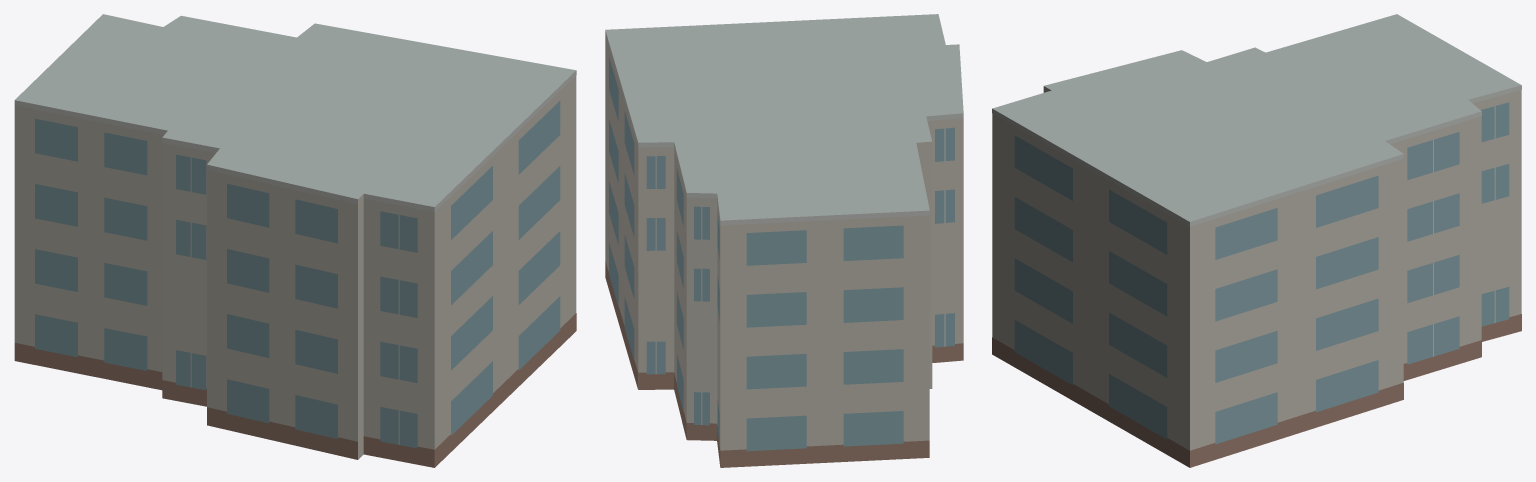
The model's file is survey-upis-33038497.glb.
3 views of the same model, side by side, from view 1: azimuth 30°, elevation 25°; view 2: azimuth 150°, elevation 25°; view 3: azimuth 270°, elevation 25° (orthographic). The views are drawn at different scales.
Visible parts, largest first — view 1: survey-upis-33038497.tmp; view 2: survey-upis-33038497.tmp; view 3: survey-upis-33038497.tmp.
Boxes of the visible parts, x1,y1,x2,y2 form: survey-upis-33038497.tmp: [14, 14, 576, 467]; survey-upis-33038497.tmp: [605, 14, 963, 467]; survey-upis-33038497.tmp: [992, 14, 1521, 467].
Size of the model in its own units: 22.5 by 12.4 by 24.21.
